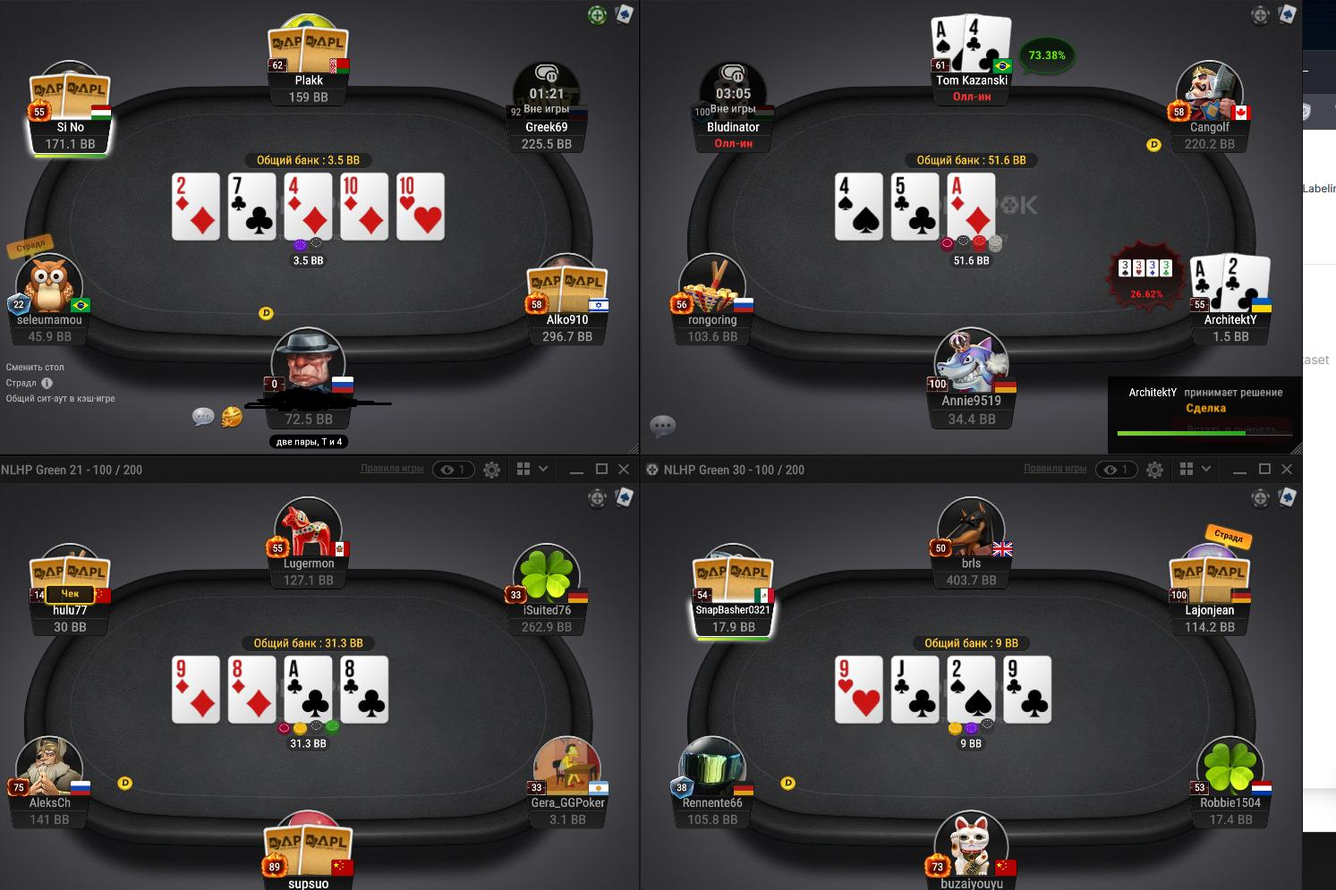10d: (341, 174, 389, 240)
10h: (397, 173, 445, 238)
2c: (1223, 250, 1271, 314)
2d: (173, 174, 220, 241)
2s: (947, 654, 996, 722)
4c: (965, 13, 1011, 75)
4d: (285, 170, 331, 239)
4s: (835, 173, 883, 240)
5c: (891, 174, 939, 240)
7c: (229, 174, 275, 240)
8c: (340, 656, 388, 724)
8d: (229, 656, 275, 723)
9c: (1004, 656, 1052, 723)
9d: (173, 657, 219, 722)
9h: (834, 656, 886, 724)
Ac: (284, 654, 333, 726), (1190, 255, 1225, 312)
Ad: (948, 173, 994, 234)
As: (932, 14, 965, 75)
Jc: (892, 656, 939, 725)
